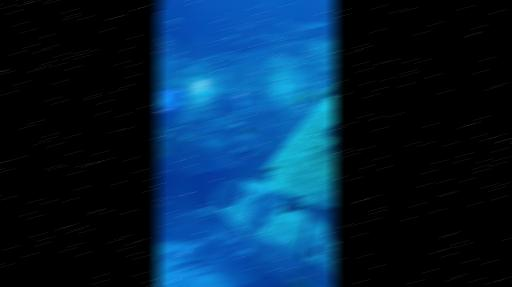Fish: (156, 126, 196, 139), (294, 20, 331, 34), (195, 207, 219, 216), (260, 33, 283, 41), (237, 127, 257, 136), (231, 111, 242, 119), (233, 148, 245, 153), (166, 19, 181, 23), (252, 33, 264, 38), (225, 35, 238, 39), (239, 25, 251, 29), (235, 39, 246, 43)
